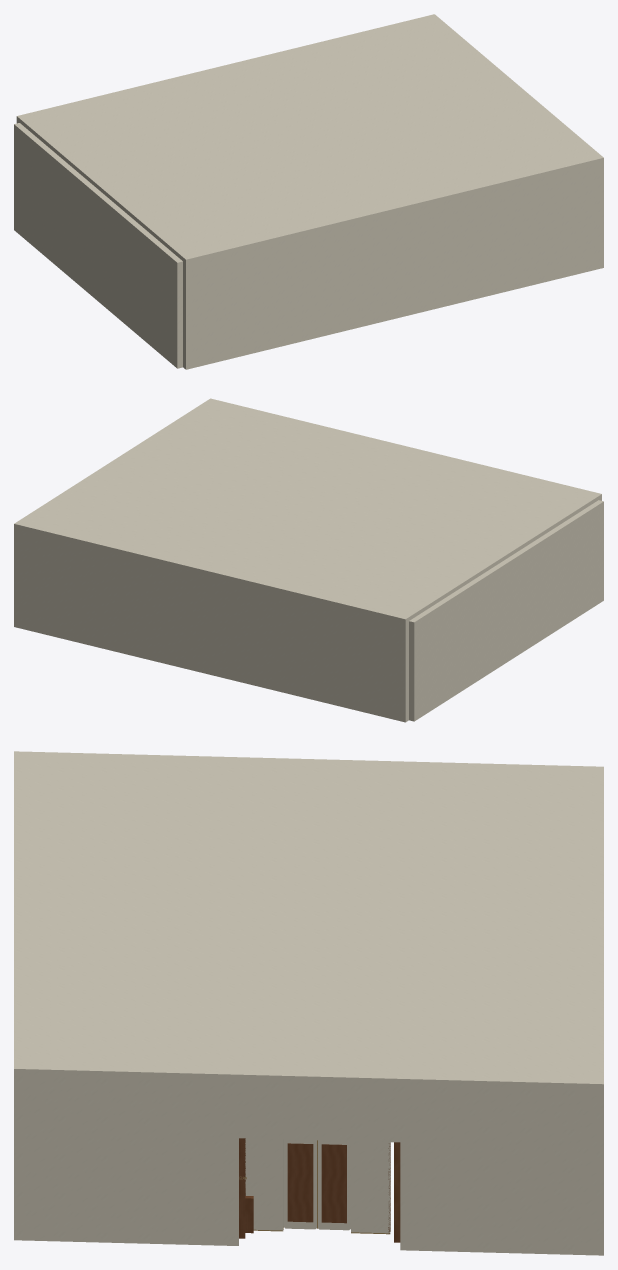
The picture shows the model from 3 angles, top to bottom: view 1: azimuth 30°, elevation 25°; view 2: azimuth 150°, elevation 25°; view 3: azimuth 270°, elevation 25°; orthographic projection. The views are drawn at different scales.
Visible parts, largest first — view 1: PremiumPressureClosure, AftPartyWall, HeldFrontageOpaqueEnclosure, InnerAftPartyReturn; view 2: PremiumPressureClosure, ForePartyWall, HeldFrontageOpaqueEnclosure, InnerForePartyReturn; view 3: PremiumPressureClosure, InnerAftPartyReturn, InnerForePartyReturn, ArrivalHeader, PrivateEntry_01_ENTRY_PocketSkin_-1_1, PrivateEntry_01_ENTRY_PocketSkin_1_1, PrivateEntry_01_ENTRY_TimberInset_RIGHT_1, PrivateEntry_01_ENTRY_TimberInset_LEFT_1, AftPartyWall, PrivateEntry_01_ENTRY_MovingPanel_LEFT, PrivateEntry_01_ENTRY_MovingPanel_RIGHT, ArrivalForePocket (+1 smaller).
Part boxes in pixels (x1,y1,x2,y2): PremiumPressureClosure: (16, 14, 603, 263); AftPartyWall: (183, 163, 603, 369); HeldFrontageOpaqueEnclosure: (14, 123, 182, 368); InnerAftPartyReturn: (598, 162, 603, 268); PremiumPressureClosure: (14, 398, 601, 623); ForePartyWall: (14, 528, 408, 722); HeldFrontageOpaqueEnclosure: (409, 500, 603, 721); InnerForePartyReturn: (14, 528, 19, 626); PremiumPressureClosure: (14, 751, 603, 1090); InnerAftPartyReturn: (14, 1075, 238, 1245); InnerForePartyReturn: (400, 1085, 603, 1255); ArrivalHeader: (239, 1081, 400, 1142); PrivateEntry_01_ENTRY_PocketSkin_-1_1: (351, 1141, 390, 1233); PrivateEntry_01_ENTRY_PocketSkin_1_1: (245, 1138, 283, 1230); PrivateEntry_01_ENTRY_TimberInset_RIGHT_1: (287, 1143, 313, 1222); PrivateEntry_01_ENTRY_TimberInset_LEFT_1: (321, 1144, 346, 1223); AftPartyWall: (14, 1075, 24, 1240); PrivateEntry_01_ENTRY_MovingPanel_LEFT: (318, 1140, 350, 1230); PrivateEntry_01_ENTRY_MovingPanel_RIGHT: (284, 1139, 316, 1229); ArrivalForePocket: (394, 1142, 400, 1242).
Bounding box in the file's own units: 18.75 × 4.45 × 13.88.
Materials: 158 (152 with a texture image).
